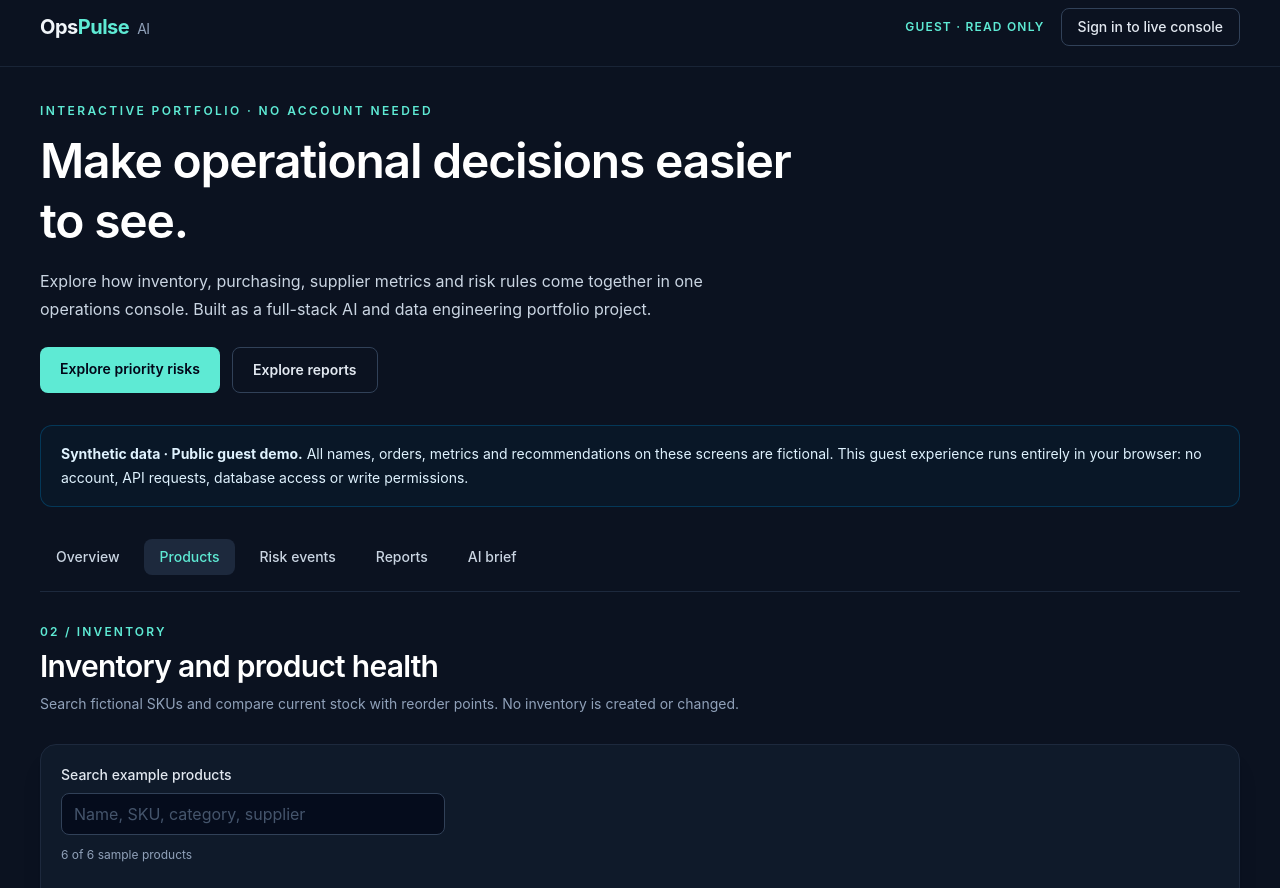
it: public portfolio demo › searches products and exposes an unambiguous empty state
Type "sensor" into the field labelled "Search example products" at (253, 814), box x1=61 y1=793 x2=445 y2=835
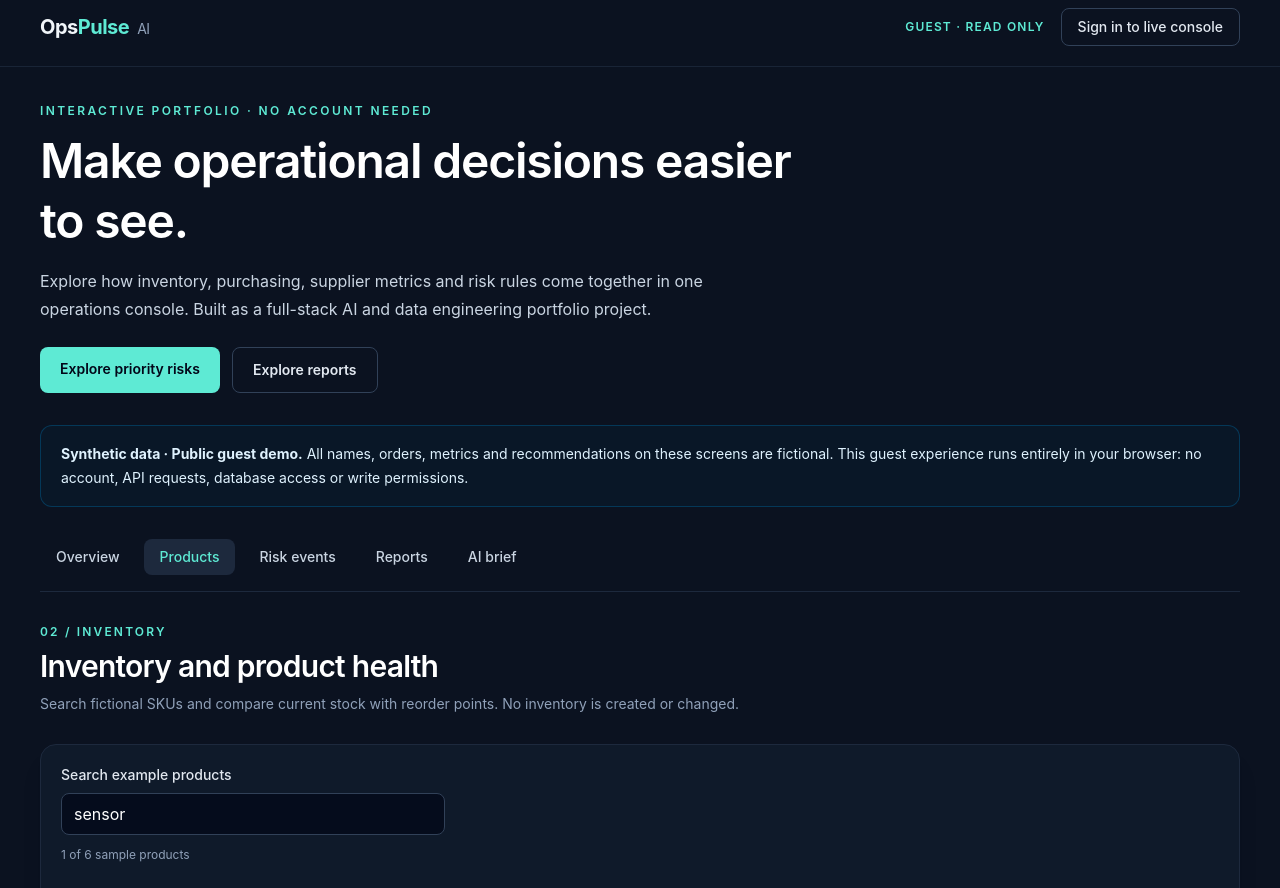
Replace the text in the field labelled "Search example products" with "no-match-123" at (253, 814), box x1=61 y1=793 x2=445 y2=835
(page scrolled)
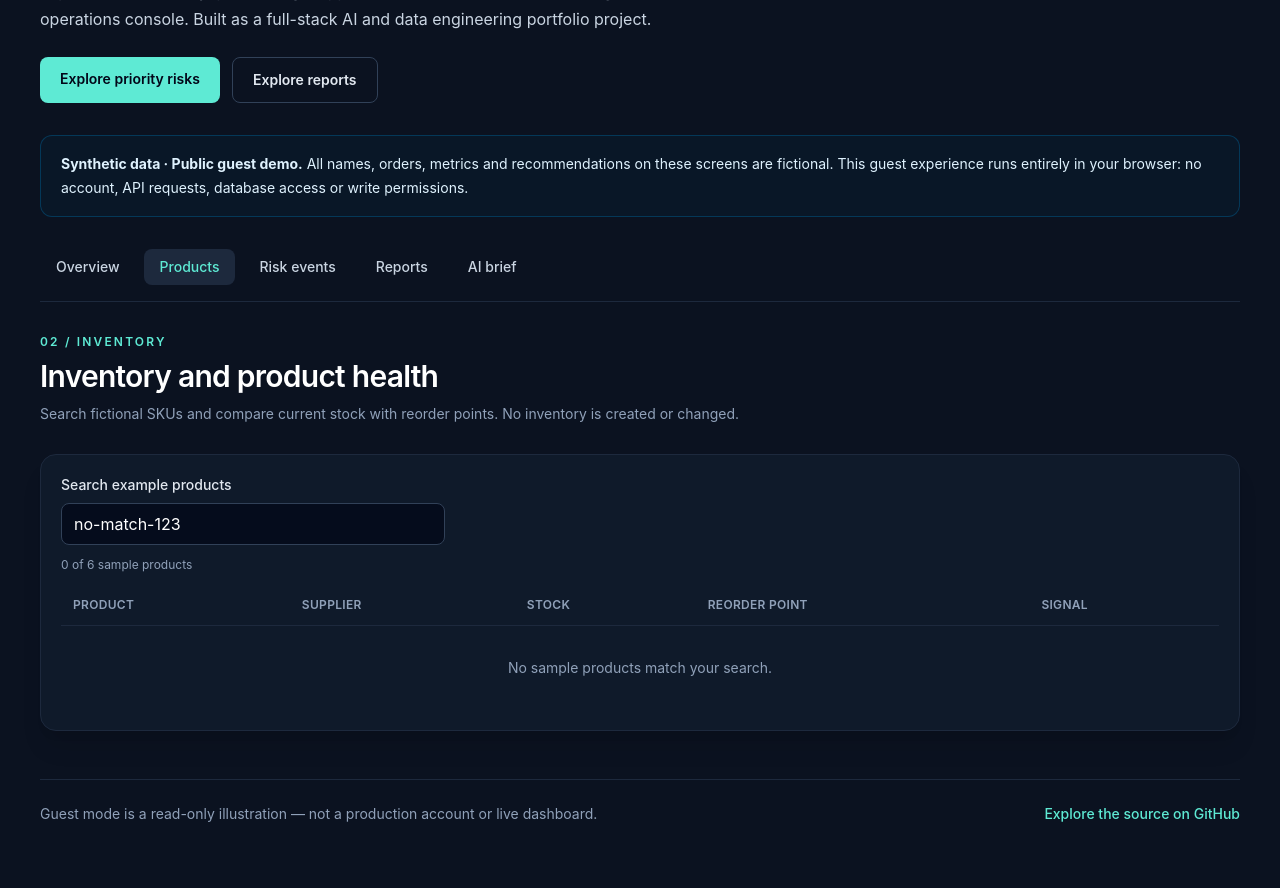
Result: the text "No sample products match your search." is shown at x1=508 y1=659 x2=772 y2=676
